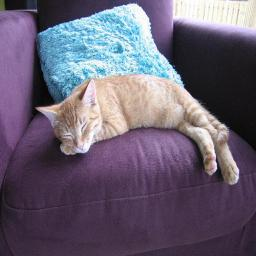catnose: (76, 142, 85, 153)
